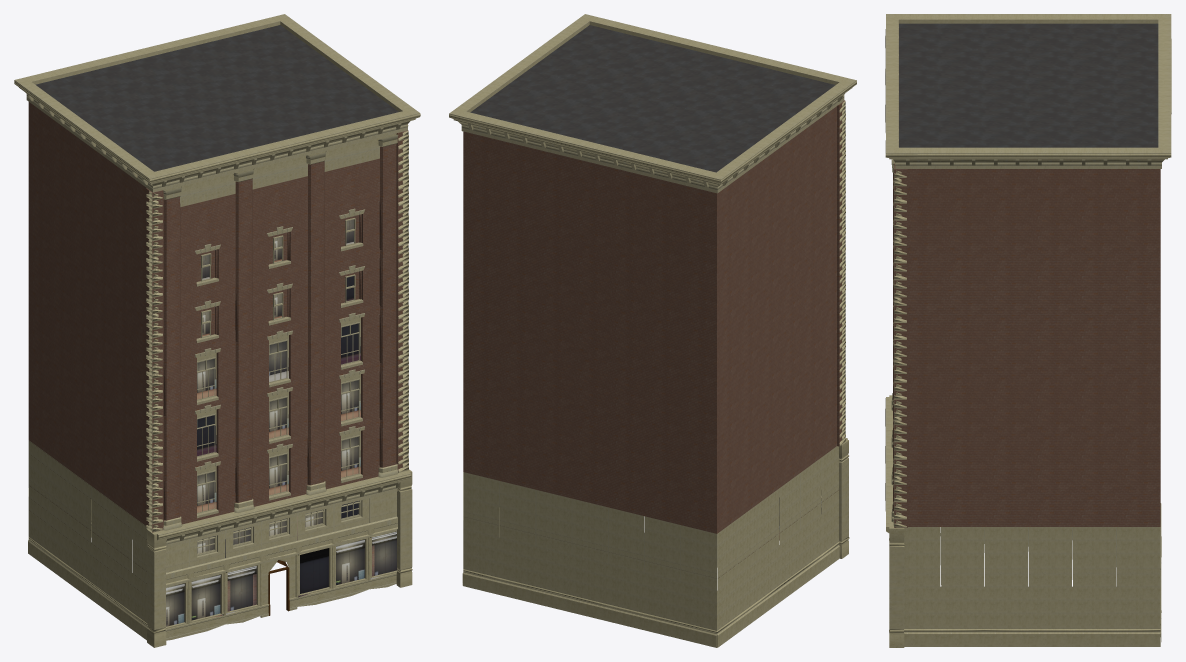
Rendered from Building_Medium_2_001.gltf.
3 renders of one model, left to right at view 1: azimuth 30°, elevation 25°; view 2: azimuth 150°, elevation 25°; view 3: azimuth 270°, elevation 25°, orthographic. The views are drawn at different scales.
Bounding box in the file's own units: 15.06 × 25.01 × 13.04.
Materials: 9 (9 with a texture image).
